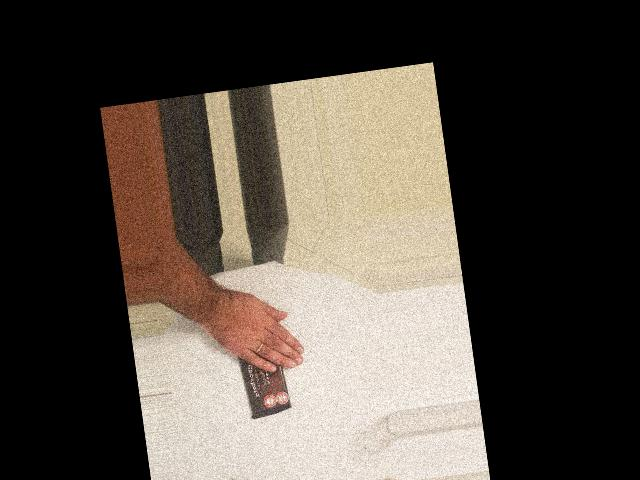chocolate: (226, 306, 298, 424)
